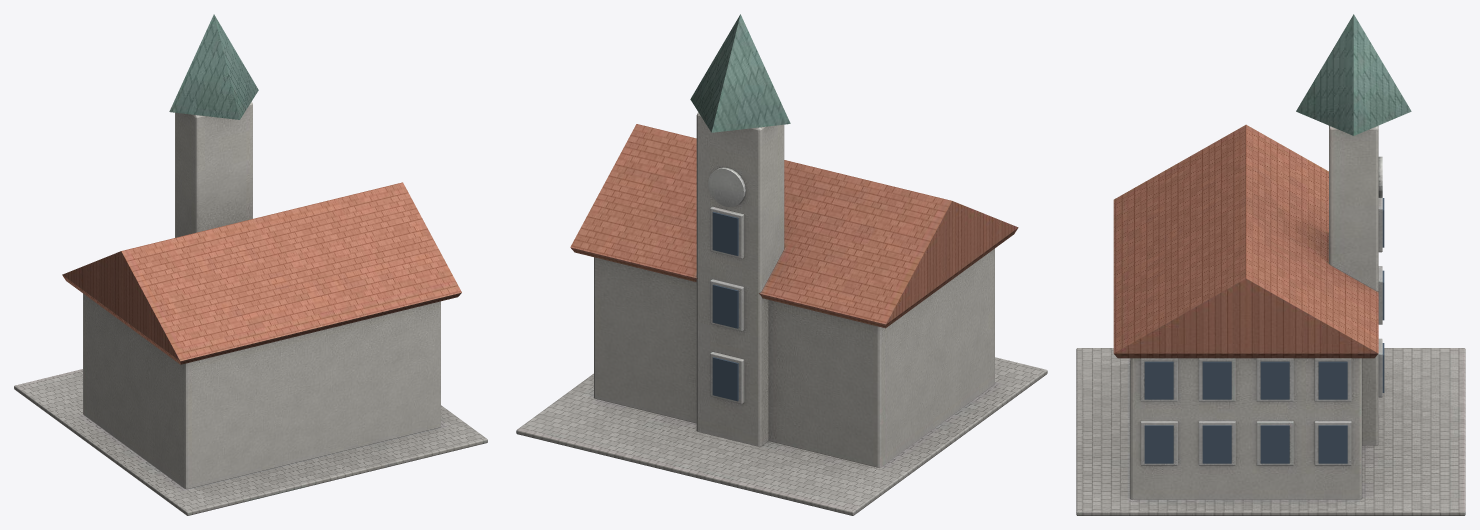
Rendered from rathaus.glb.
The picture shows the model from 3 angles, left to right: view 1: azimuth 30°, elevation 25°; view 2: azimuth 150°, elevation 25°; view 3: azimuth 270°, elevation 25°; orthographic projection. The views are drawn at different scales.
Parts seen in each view (by area): view 1: rathaus; view 2: rathaus, rathaus_details; view 3: rathaus, rathaus_details.
Boxes of the visible parts, <box> form: rathaus: <box>14,14,487,515</box>; rathaus: <box>516,14,1047,515</box>; rathaus_details: <box>712,212,738,401</box>; rathaus: <box>1076,14,1465,515</box>; rathaus_details: <box>1144,198,1384,463</box>.
Bounding box in the file's own units: 0.9401 × 1.12 × 0.9401.
Materials: 2 (1 with a texture image).
